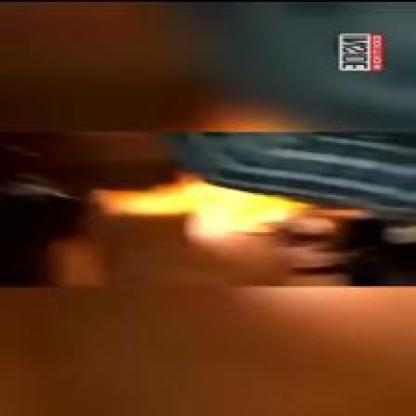Fire: (96, 186, 290, 232)
